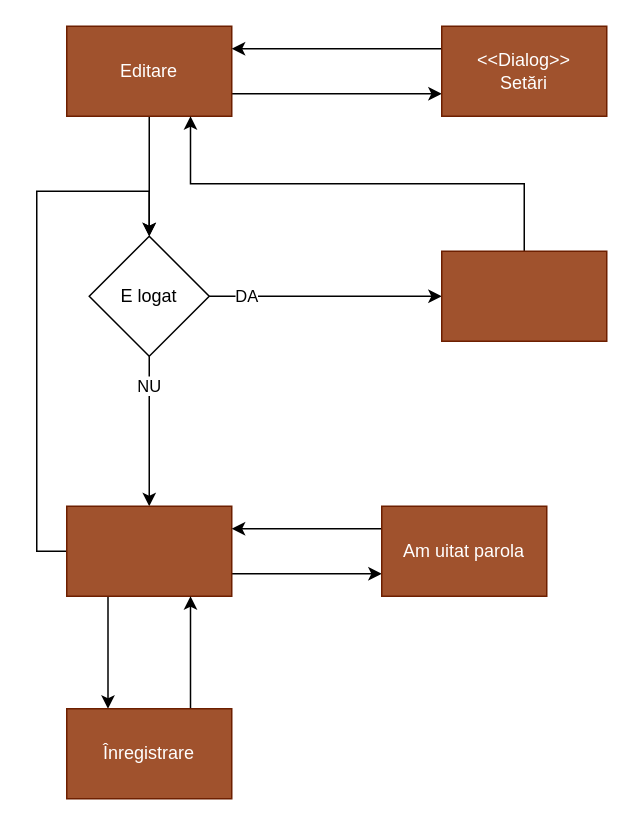
This 633x825 diagram has some shape labels left out. Here are the shapes that lost their labels. From the top down, the centre of each, then its label:
At pixel 523 295: "Cloud".
At pixel 148 550: "Login".
